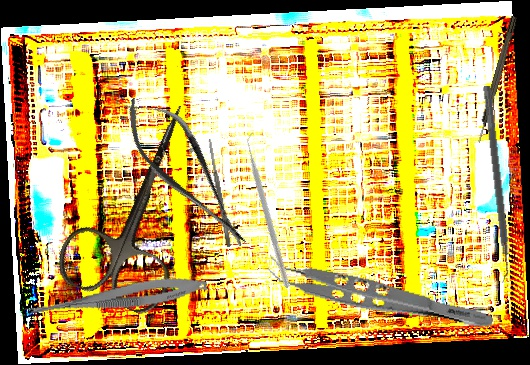Chopper: (190, 129, 352, 289)
Hook Surgical: (475, 15, 518, 144)
Iris Scissors: (49, 84, 235, 321)
Micro Scissor: (110, 81, 264, 263), (18, 269, 209, 329)
Spatula Surgical: (474, 85, 515, 284), (207, 138, 232, 248)
Tissue Forceps: (263, 250, 498, 334)
